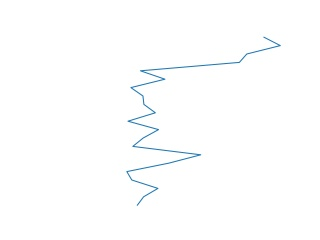crevasseRiverChannelBar: (122, 35, 284, 210)
